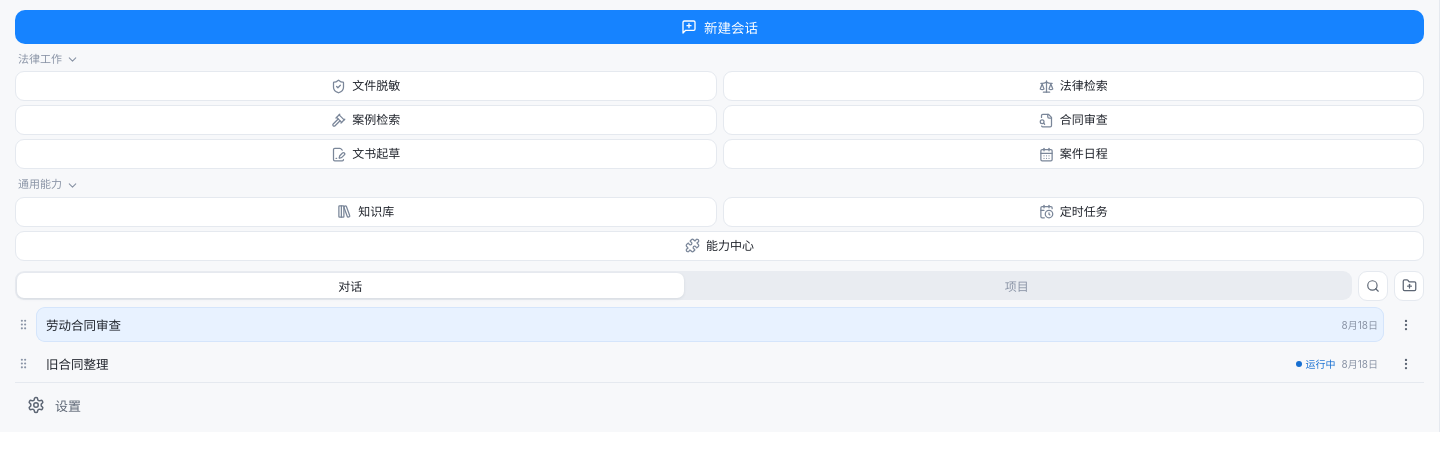
Scenario: search also works inside the project tab
Click the tab "项目" at (1017, 286), box [684,273,1350,298]
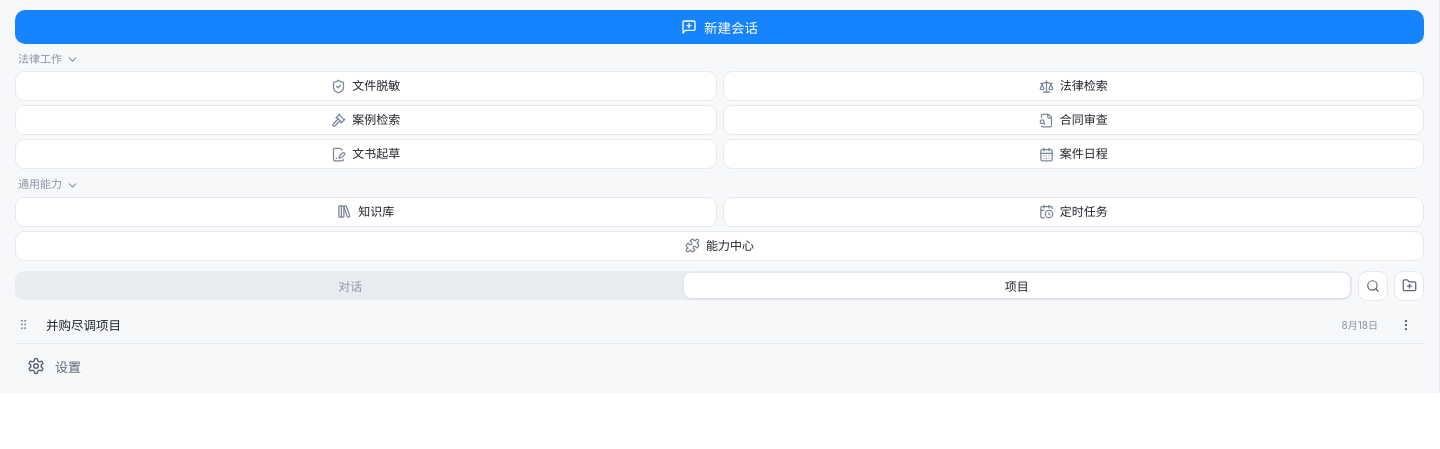
Click the button named "搜索会话" at (1373, 286), box [1358,271,1388,301]
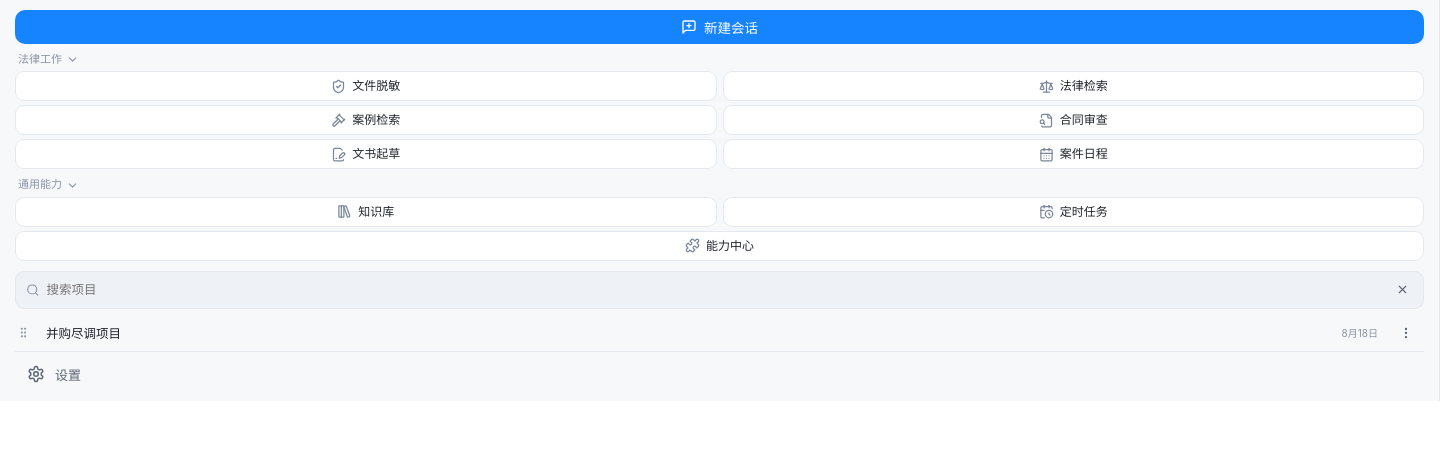
Type "不存在" into the search field named "搜索会话" at (715, 290), box [46,282,1384,297]
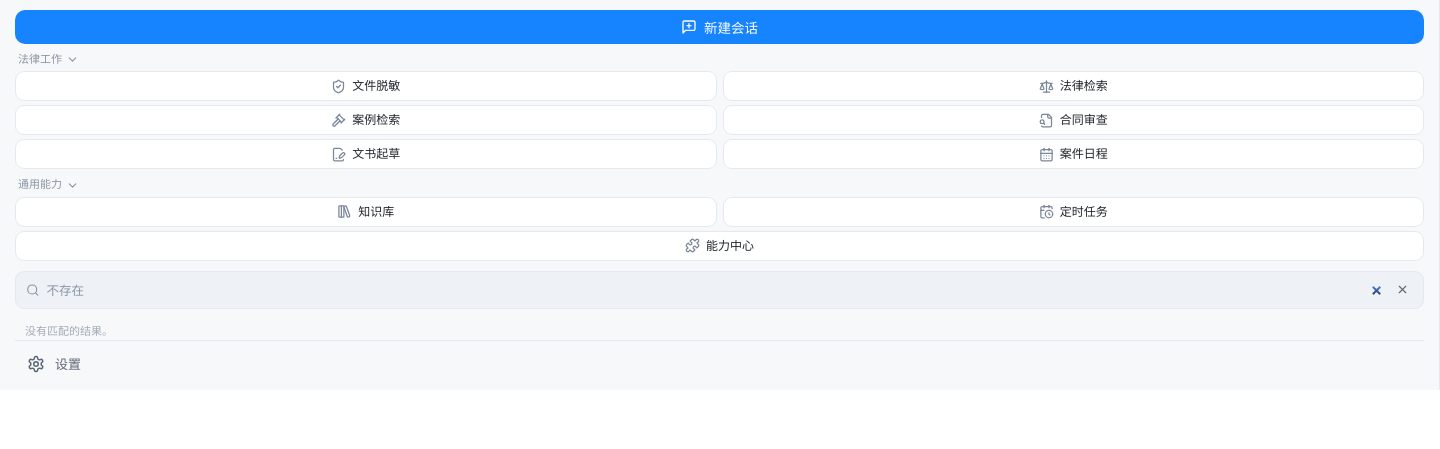
Result: the text "没有匹配的结果。" is shown at [25,324,113,338]
